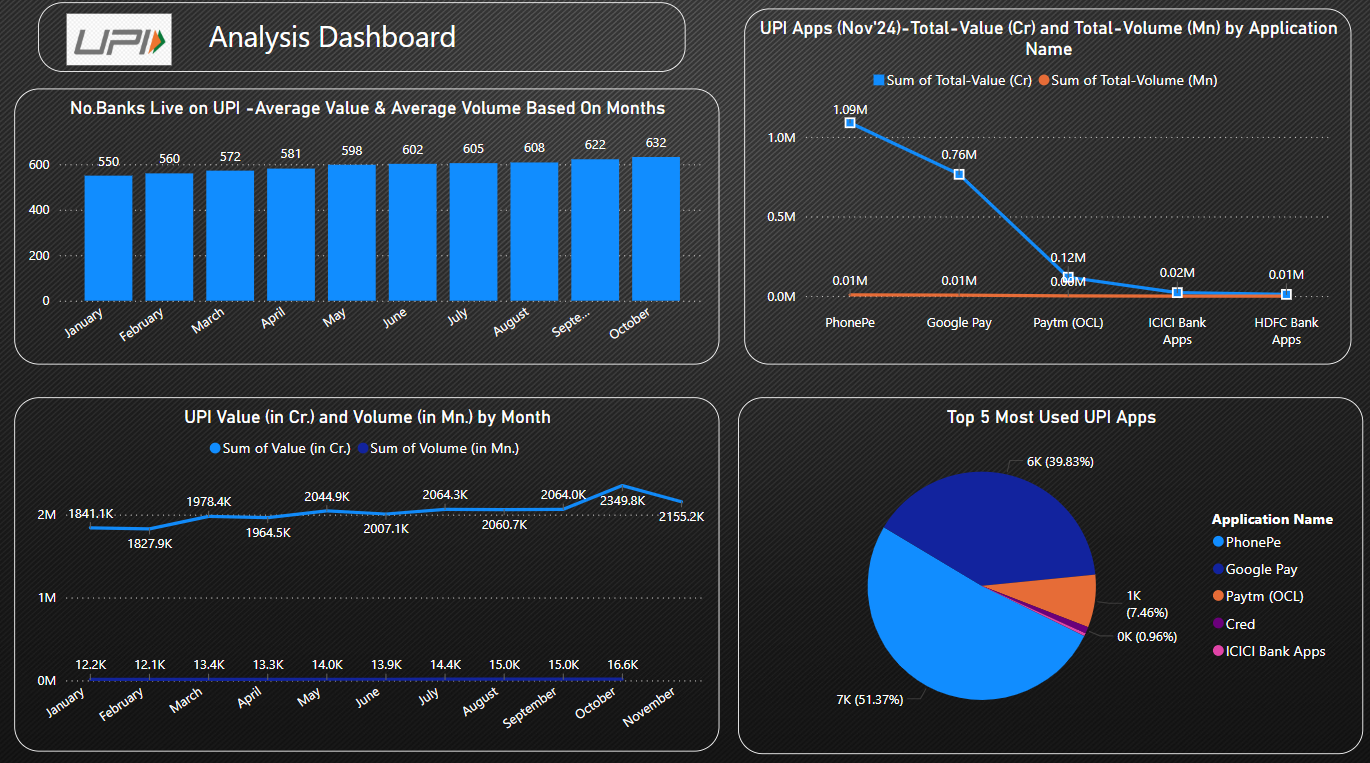

The dashboard page shown, as its layout file describes it:
{"tool":"powerbi","page":{"name":"UPI","canvas":[1280,720],"ordinal":0},"visuals":[{"type":"columnChart","title":"No.Banks Live on UPI -Average Value & Average Volume Based On Months","fields":{"Category":["UPI  Value Data.Month.Variation.Date Hierarchy.Month"],"Y":["Sum(No OF Banks Live On UPI.No. of Banks live on UPI)"]},"box":[15.1,86.4,655.9,256.6],"z":0},{"type":"pieChart","title":"Top 5 Most Used UPI Apps","fields":{"Category":["UPI Apps.Application Name"],"Y":["Sum(UPI Apps.Total-Volume (Mn))"]},"box":[688.9,373.2,581.8,332.1],"z":1000},{"type":"lineChart","title":"UPI Value (in Cr.) and Volume (in Mn.) by Month","fields":{"Category":["UPI  Value Data.Month.Variation.Date Hierarchy.Month"],"Y":["Sum(UPI  Value Data.Value (in Cr.))","Sum(UPI Volume Data.Volume (in Mn.))"]},"box":[15.1,373.2,655.9,329.3],"z":2000},{"type":"textbox","box":[37,5.5,602.4,64.5],"z":3000},{"type":"lineChart","title":"UPI Apps (Nov''24)-Total-Value (Cr) and Total-Volume (Mn) by Application Name","fields":{"Category":["UPI Apps.Application Name"],"Y":["Sum(UPI Apps.Total-Value (Cr))","Sum(UPI Apps.Total-Volume (Mn))"]},"box":[694.2,11.6,565.1,331.4],"z":4000},{"type":"image","box":[55.8,11.6,114,58.1],"z":4002}]}

Visuals, with their boxes in screenshot pixels (x1, y1, x2, y2), scaled from the page's 1280x720 canvas onto the 1370x763 screenshot:
"No.Banks Live on UPI -Average Value & Average Volume Based On Months" columnChart: [left=16, top=92, right=718, bottom=363]
"Top 5 Most Used UPI Apps" pieChart: [left=737, top=395, right=1360, bottom=747]
"UPI Value (in Cr.) and Volume (in Mn.) by Month" lineChart: [left=16, top=395, right=718, bottom=744]
textbox: [left=40, top=6, right=684, bottom=74]
"UPI Apps (Nov''24)-Total-Value (Cr) and Total-Volume (Mn) by Application Name" lineChart: [left=743, top=12, right=1348, bottom=363]
image: [left=60, top=12, right=182, bottom=74]
